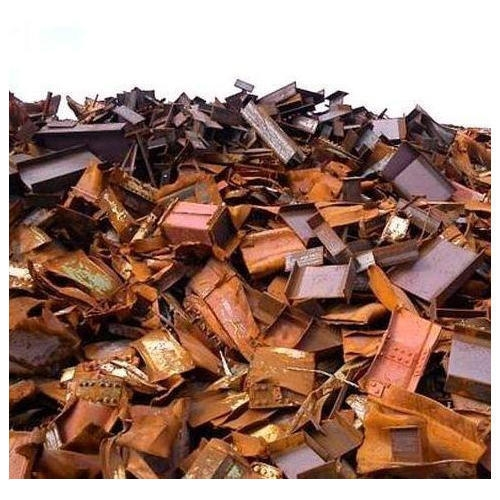metal: (26, 243, 142, 325), (352, 304, 444, 396), (386, 232, 487, 305), (238, 337, 325, 416), (150, 191, 244, 262), (376, 142, 464, 214), (12, 142, 112, 202), (234, 102, 318, 169), (28, 110, 132, 161), (124, 323, 200, 387), (259, 424, 344, 478), (435, 332, 493, 411), (276, 254, 361, 303), (364, 413, 432, 470), (272, 197, 336, 250), (301, 209, 360, 264), (361, 234, 424, 271), (106, 95, 150, 134)
